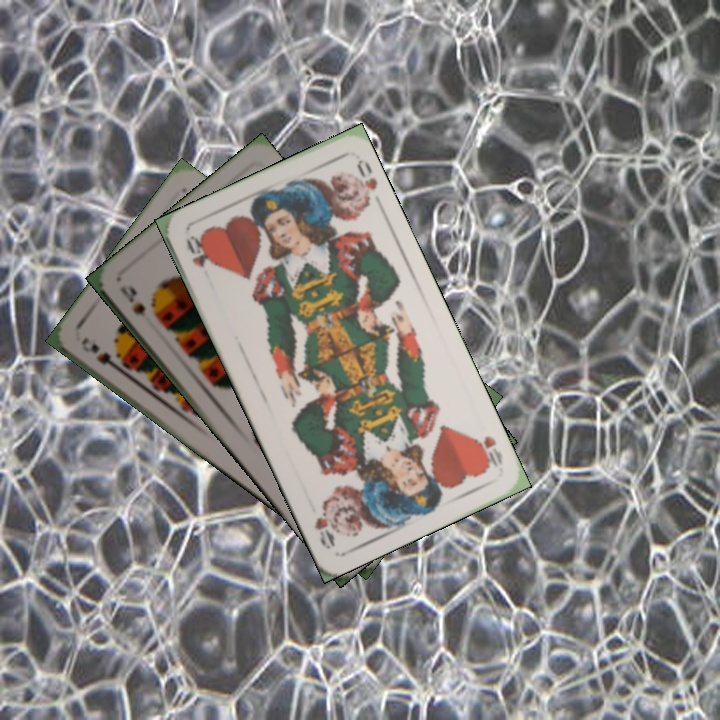HO: (469, 431, 506, 471), (181, 231, 211, 270)
S9: (77, 333, 130, 376), (116, 281, 149, 319)
